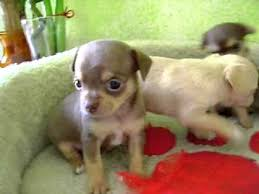chihuahua: (47, 36, 165, 189)
